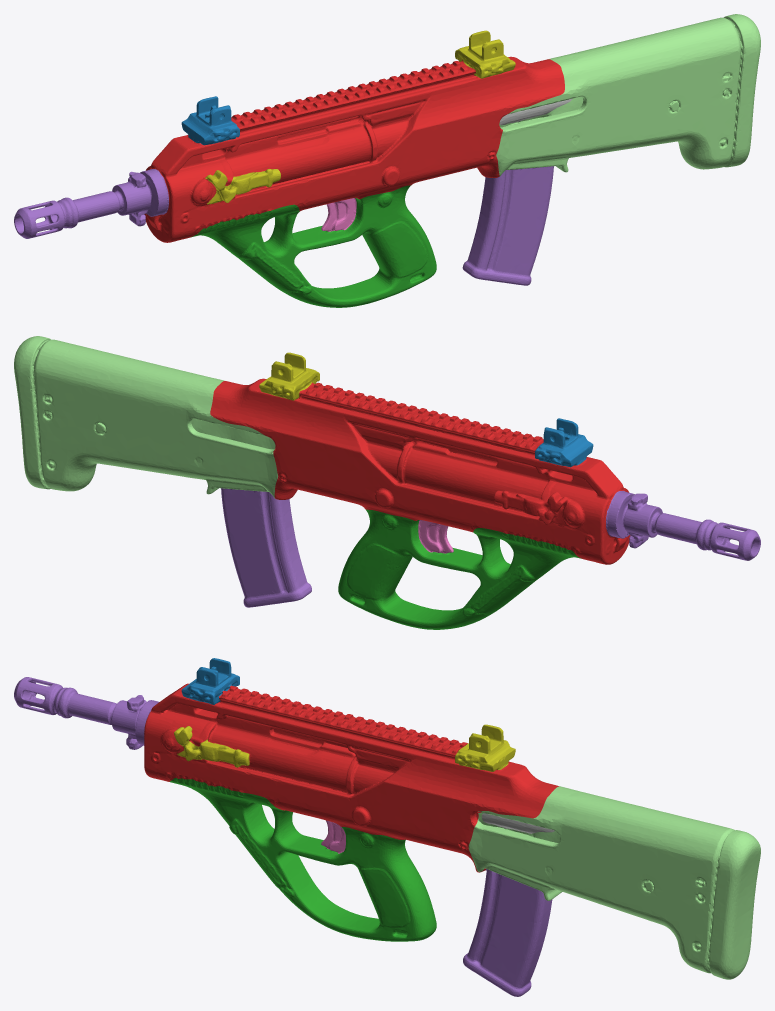
The model's file is olive-bullpup.glb.
3 renders of one model, top to bottom at view 1: azimuth 30°, elevation 25°; view 2: azimuth 150°, elevation 25°; view 3: azimuth 330°, elevation 25°, orthographic.
Parts seen in each view (by area): view 1: model_part10, model_part9, model_part7, model_part6, model_part0, model_part5, model_part2, model_part1, model_part4, model_part8; view 2: model_part10, model_part9, model_part7, model_part6, model_part0, model_part5, model_part2, model_part4; view 3: model_part10, model_part9, model_part7, model_part6, model_part0, model_part2, model_part5, model_part1, model_part8.
Boxes of the visible parts, left/top/right/bottom form: model_part10: left=144, top=56, right=564, bottom=242; model_part9: left=496, top=14, right=760, bottom=176; model_part7: left=191, top=185, right=436, bottom=307; model_part6: left=462, top=166, right=553, bottom=285; model_part0: left=14, top=169, right=168, bottom=238; model_part5: left=181, top=96, right=239, bottom=145; model_part2: left=455, top=30, right=515, bottom=78; model_part1: left=205, top=169, right=280, bottom=204; model_part4: left=321, top=198, right=356, bottom=231; model_part8: left=499, top=98, right=572, bottom=125; model_part10: left=210, top=378, right=630, bottom=564; model_part9: left=14, top=336, right=277, bottom=497; model_part7: left=338, top=509, right=581, bottom=629; model_part6: left=221, top=488, right=311, bottom=607; model_part0: left=606, top=491, right=760, bottom=560; model_part5: left=535, top=418, right=593, bottom=467; model_part2: left=259, top=352, right=319, bottom=400; model_part4: left=418, top=520, right=453, bottom=553; model_part10: left=144, top=683, right=558, bottom=872; model_part9: left=468, top=786, right=760, bottom=979; model_part7: left=169, top=778, right=436, bottom=941; model_part6: left=463, top=869, right=552, bottom=996; model_part0: left=14, top=677, right=158, bottom=749; model_part2: left=455, top=724, right=515, bottom=771; model_part5: left=181, top=658, right=239, bottom=704; model_part1: left=174, top=726, right=249, bottom=767; model_part8: left=480, top=813, right=554, bottom=833.
Size of the model in its own units: 0.12 by 0.0396 by 0.0115.
